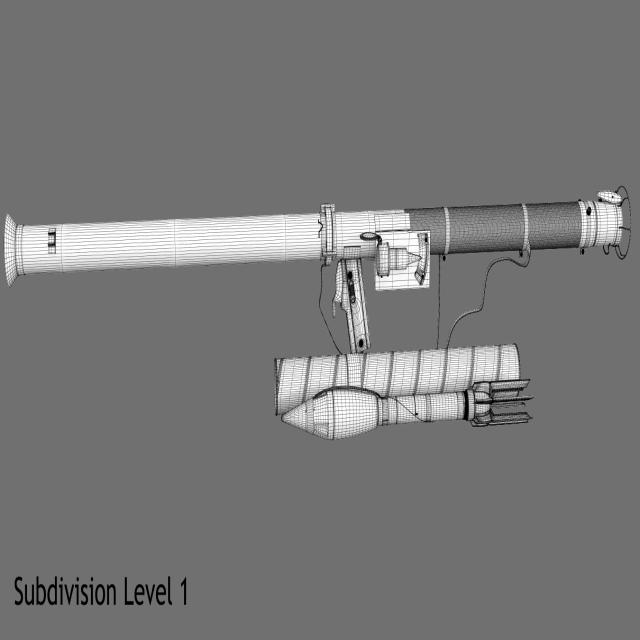Lancher: (0, 190, 630, 429)
